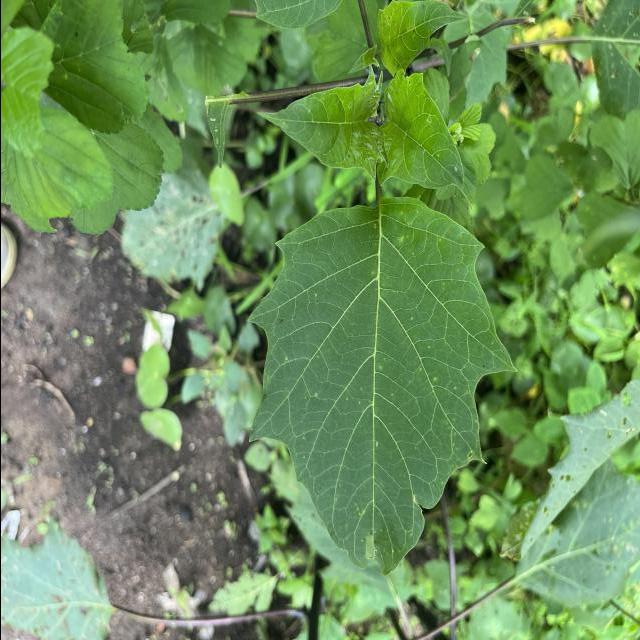Datura metal linn: (242, 192, 520, 580), (252, 61, 390, 182), (375, 67, 473, 210), (374, 0, 472, 79)
